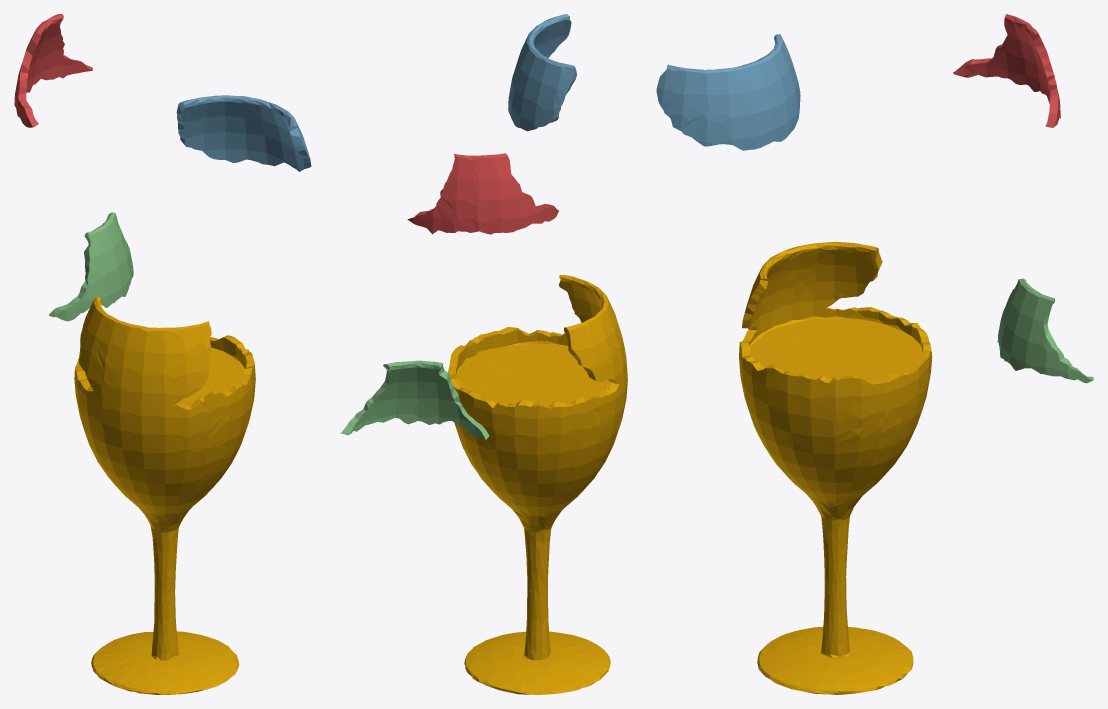
File: fractured_60_4pcs_transformed.glb
3 views of the same model, side by side, from view 1: azimuth 30°, elevation 25°; view 2: azimuth 150°, elevation 25°; view 3: azimuth 270°, elevation 25° (orthographic). The views are drawn at different scales.
Parts seen in each view (by area): view 1: piece_0.obj, piece_2.obj, piece_3.obj, piece_1.obj; view 2: piece_0.obj, piece_1.obj, piece_3.obj, piece_2.obj; view 3: piece_0.obj, piece_2.obj, piece_3.obj, piece_1.obj.
Boxes of the visible parts, x1,y1,x2,y2 form: piece_0.obj: (74, 297, 255, 694); piece_2.obj: (176, 95, 311, 171); piece_3.obj: (48, 212, 133, 321); piece_1.obj: (14, 14, 92, 127); piece_0.obj: (448, 275, 627, 694); piece_1.obj: (407, 153, 558, 234); piece_3.obj: (340, 360, 489, 439); piece_2.obj: (508, 14, 576, 131); piece_0.obj: (739, 242, 932, 694); piece_2.obj: (656, 34, 800, 150); piece_3.obj: (997, 278, 1093, 383); piece_1.obj: (953, 14, 1060, 127).
Bounding box in the file's own units: 0.4496 × 1.6 × 1.02.
